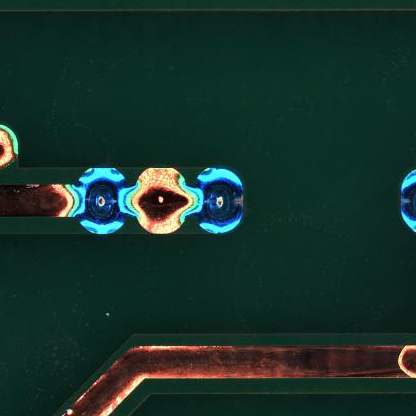spot: (193, 166, 243, 235), (75, 166, 125, 234)
